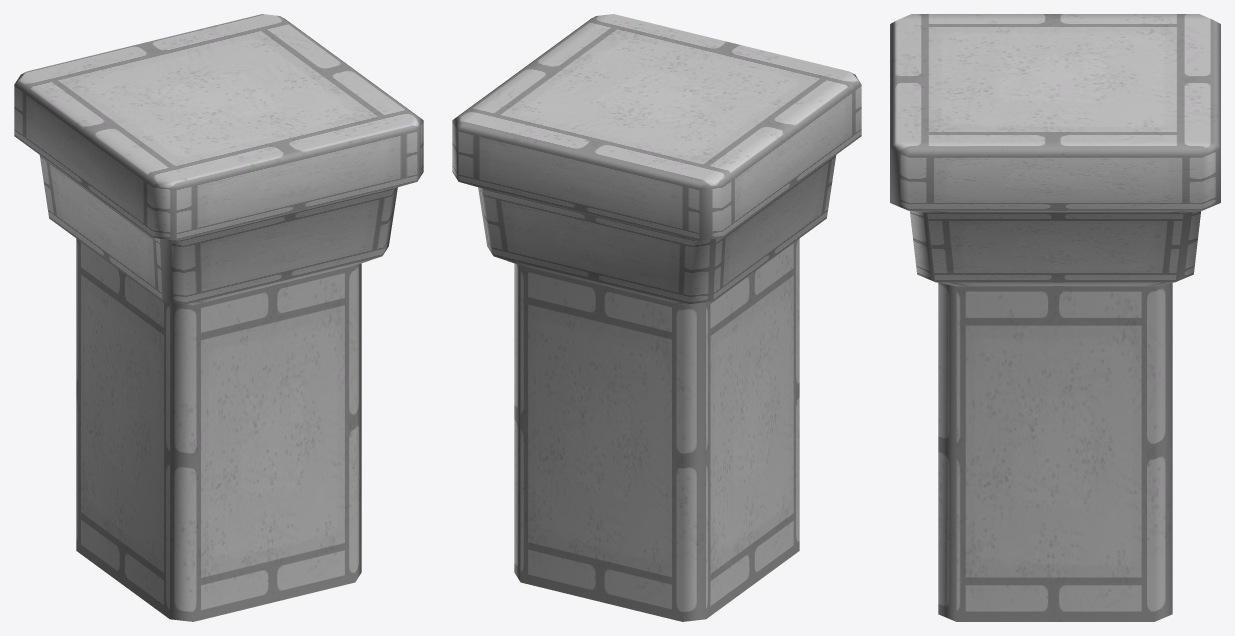
Rendered from CementFencePostHand.fbx.
The picture shows the model from 3 angles, left to right: view 1: azimuth 30°, elevation 25°; view 2: azimuth 150°, elevation 25°; view 3: azimuth 270°, elevation 25°; orthographic projection. The views are drawn at different scales.
Visible parts, largest first — view 1: FencePost; view 2: FencePost; view 3: FencePost.
Boxes of the visible parts, x1=… form: FencePost: x1=14, y1=14, x2=423, y2=621; FencePost: x1=452, y1=14, x2=861, y2=621; FencePost: x1=890, y1=14, x2=1220, y2=621.
Bounding box in the file's own units: 0.532 × 0.8729 × 0.532.
